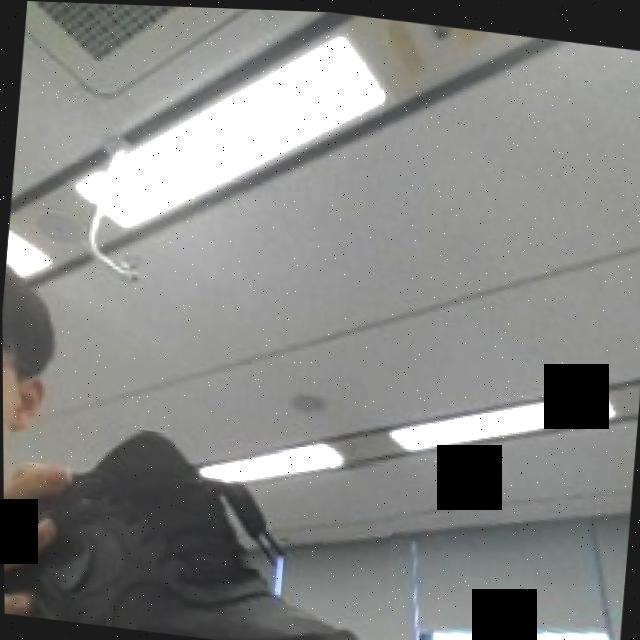shoe: (2, 413, 398, 640)
